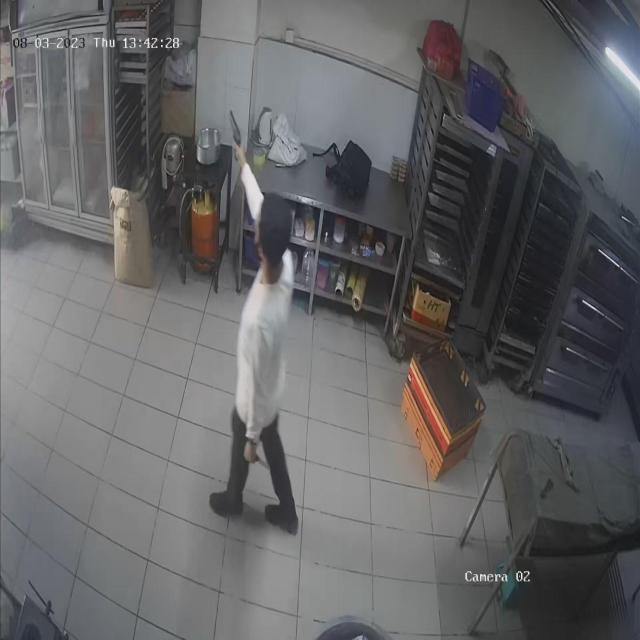Gun: (221, 104, 262, 154)
